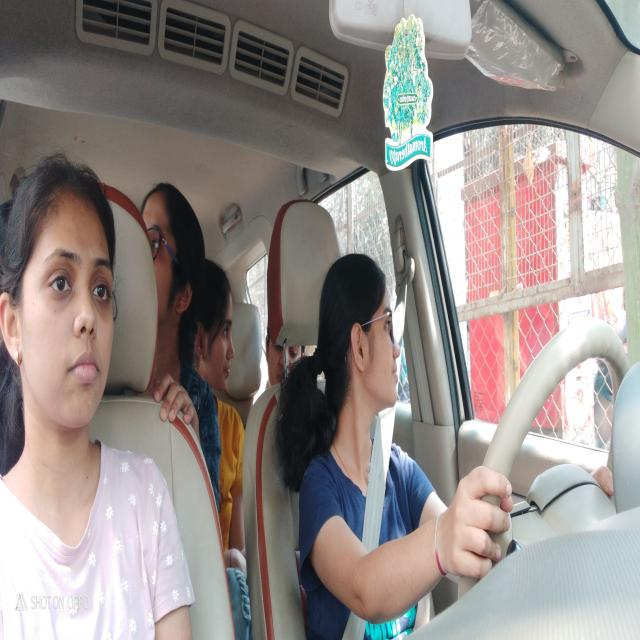LeftRight: (317, 247, 403, 447)
person: (1, 148, 131, 442), (134, 178, 205, 362), (200, 256, 237, 393), (263, 321, 306, 384)
